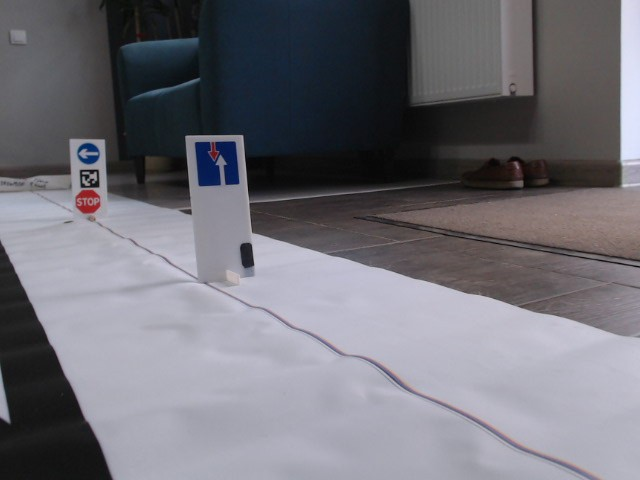Stop: (74, 188, 101, 213)
priority_movement: (194, 140, 241, 186)
